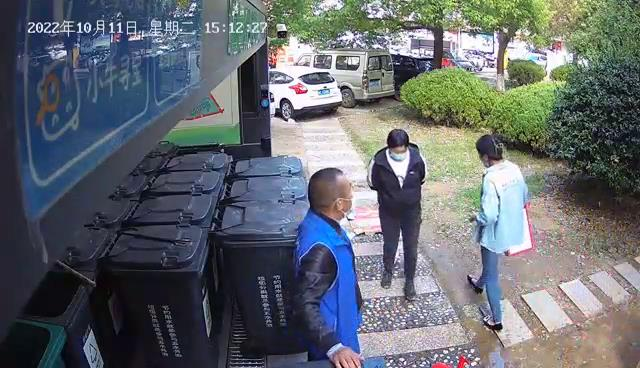person: (365, 128, 427, 300)
worker: (290, 166, 366, 368), (465, 134, 536, 332)
